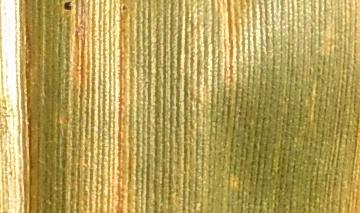tarspot: (62, 1, 75, 11), (120, 4, 127, 12)
